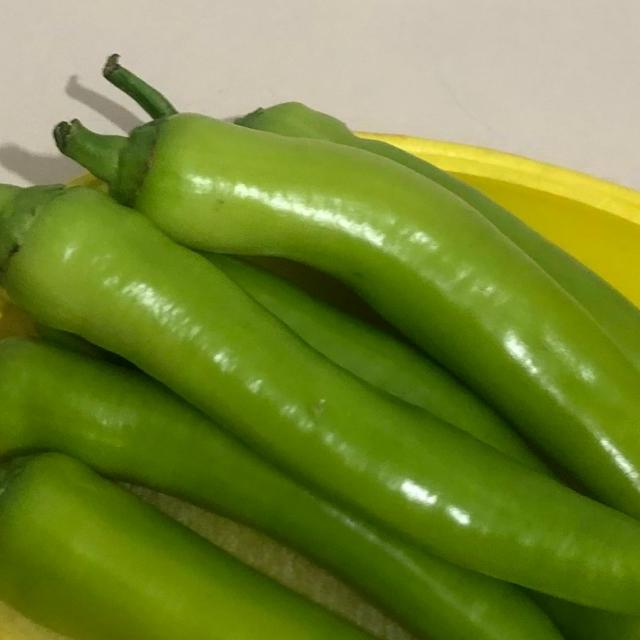chili_pepper: (0, 85, 640, 640), (52, 95, 640, 640), (0, 365, 640, 640)
